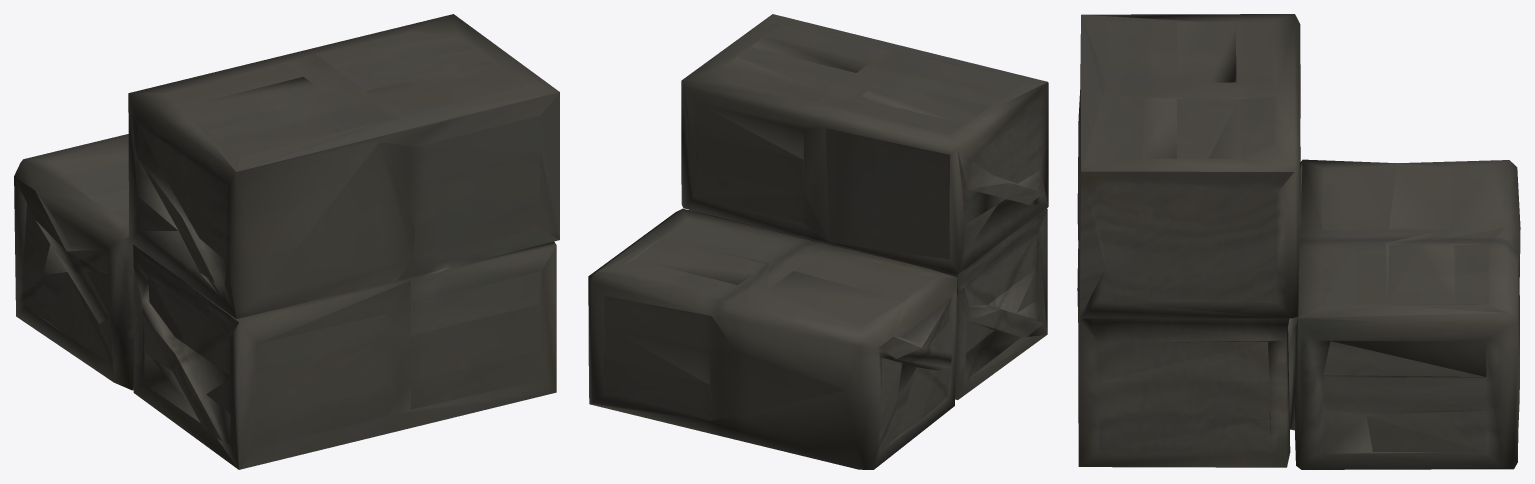
3 views of the same model, side by side, from view 1: azimuth 30°, elevation 25°; view 2: azimuth 150°, elevation 25°; view 3: azimuth 270°, elevation 25° (orthographic). The views are drawn at different scales.
Parts seen in each view (by area): view 1: tripo_node_ae94fd78.007; view 2: tripo_node_ae94fd78.007; view 3: tripo_node_ae94fd78.007.
Boxes of the visible parts, bbox=[...] form: tripo_node_ae94fd78.007: bbox=[14, 14, 559, 469]; tripo_node_ae94fd78.007: bbox=[588, 14, 1048, 469]; tripo_node_ae94fd78.007: bbox=[1077, 14, 1520, 469].
Size of the model in its own units: 6.86 by 5.83 by 7.77.
